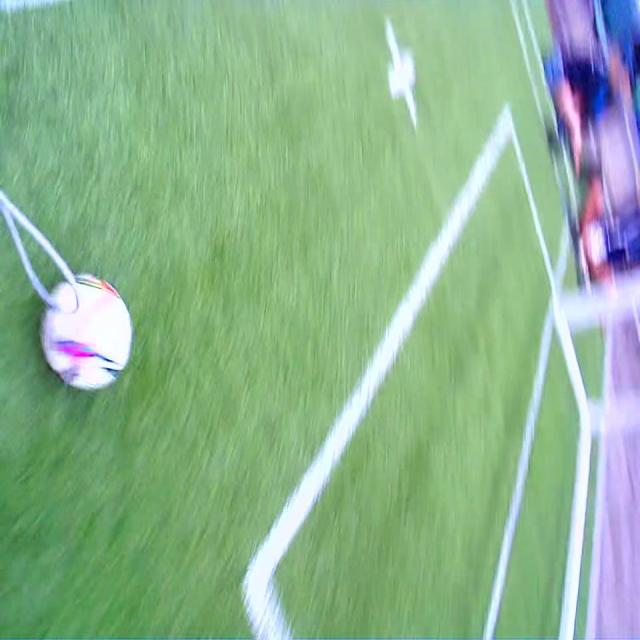ball: (39, 275, 133, 391)
